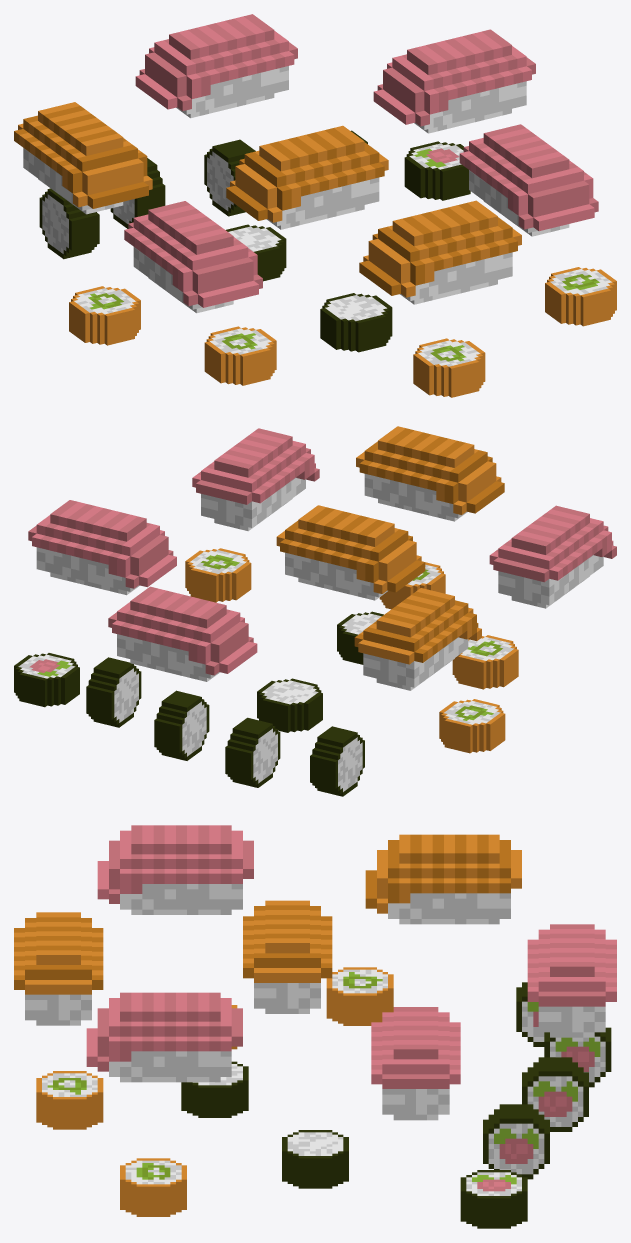
File: sushi_inner.obj
3 renders of one model, top to bottom at view 1: azimuth 30°, elevation 25°; view 2: azimuth 150°, elevation 25°; view 3: azimuth 270°, elevation 25°, orthographic. The views are drawn at different scales.
Parts seen in each view (by area): view 1: sushi_inner; view 2: sushi_inner; view 3: sushi_inner.
Boxes of the visible parts, box(x1,y1,x2,y2) form: sushi_inner: box(14, 14, 616, 397); sushi_inner: box(14, 426, 616, 796); sushi_inner: box(14, 825, 616, 1228).
Size of the model in its own units: 103 by 35 by 108.
1 material, 1 textured.
